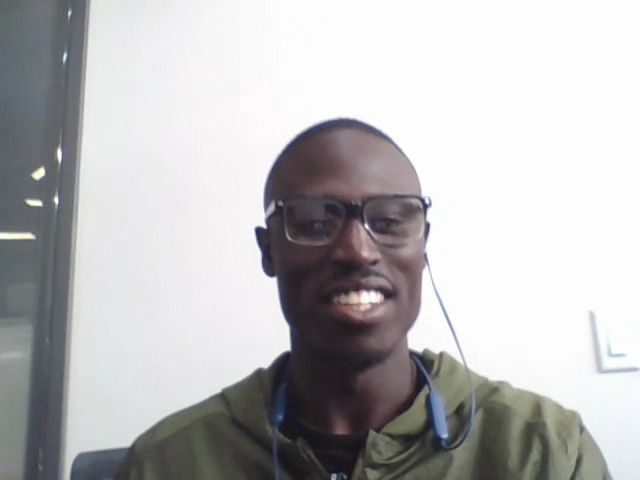face: (266, 125, 428, 368)
